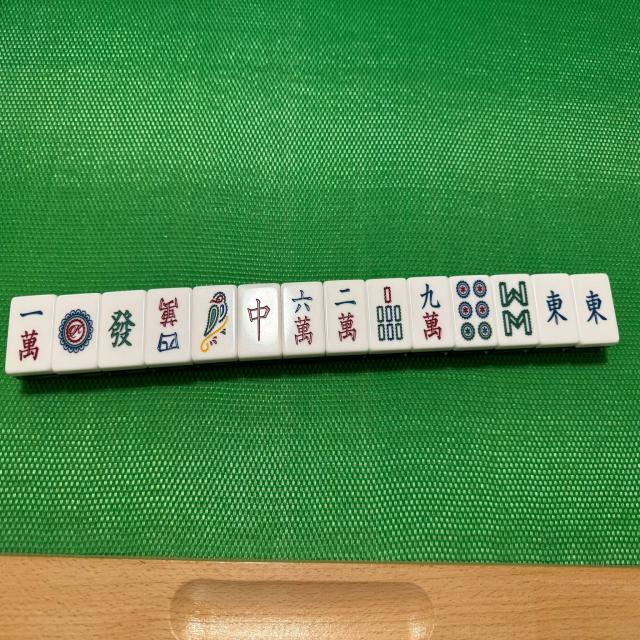east: (576, 276, 614, 338), (539, 276, 575, 338)
fa: (101, 293, 143, 365)
m1: (11, 297, 54, 368)
m2: (330, 285, 364, 348)
m4: (148, 290, 190, 360)
m6: (282, 285, 322, 352)
m9: (411, 282, 448, 344)
s1: (196, 287, 234, 356)
s7: (371, 283, 407, 346)
s8: (496, 278, 535, 343)
t1: (54, 295, 98, 363)
t6: (453, 277, 491, 343)
zhong: (240, 287, 278, 353)
